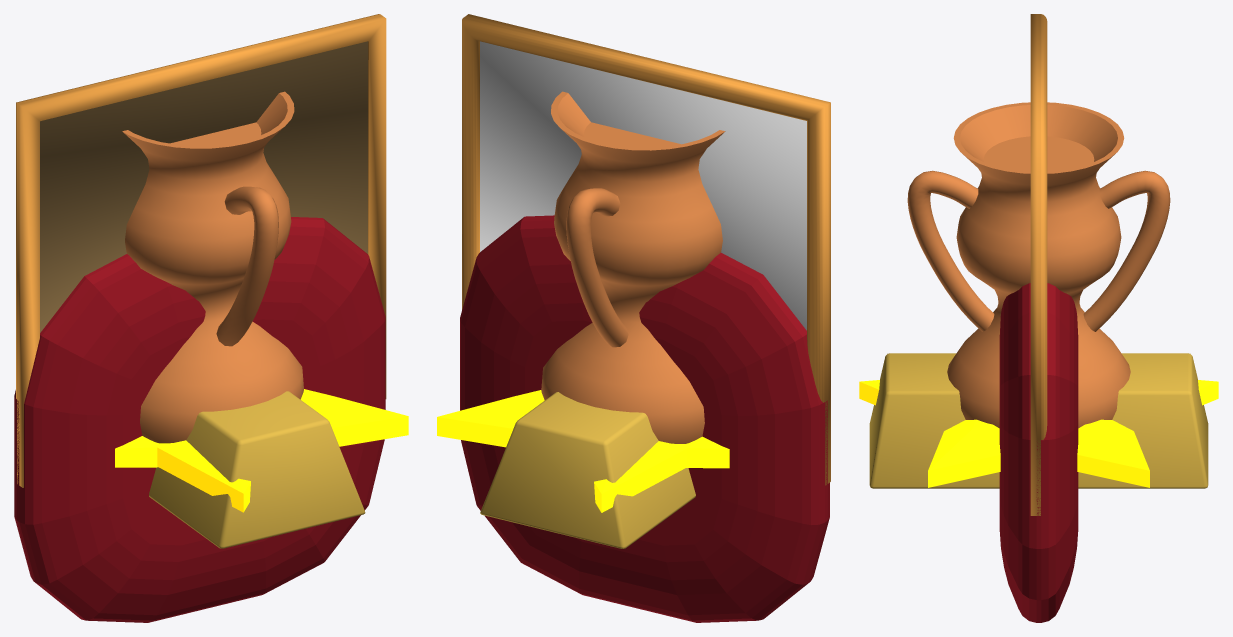
Rendered from Itemsglb.glb.
The picture shows the model from 3 angles, left to right: view 1: azimuth 30°, elevation 25°; view 2: azimuth 150°, elevation 25°; view 3: azimuth 270°, elevation 25°; orthographic projection. The views are drawn at different scales.
Visible parts, largest first — view 1: Ruby, Painting, Vase1, Goldbar, Star; view 2: Ruby, Painting, Vase1, Goldbar, Star; view 3: Vase1, Ruby, Goldbar, Painting, Star.
Part boxes in pixels (box(x1,y1,x2,y2)): Ruby: box(14, 217, 385, 622); Painting: box(16, 14, 386, 487); Vase1: box(122, 91, 303, 443); Goldbar: box(149, 391, 365, 548); Star: box(115, 389, 408, 512); Ruby: box(460, 215, 829, 622); Painting: box(462, 14, 830, 485); Vase1: box(541, 91, 725, 443); Goldbar: box(480, 392, 695, 548); Star: box(437, 390, 729, 512); Vase1: box(907, 102, 1170, 428); Ruby: box(999, 283, 1078, 622); Goldbar: box(869, 353, 1208, 488); Painting: box(1030, 14, 1047, 515); Star: box(859, 380, 1218, 487).
Bounding box in the file's own units: 0.8 × 1.15 × 0.7608.
